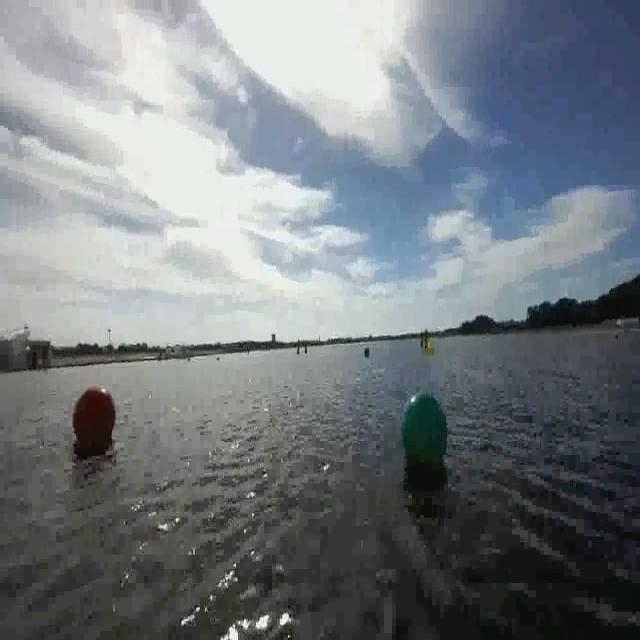blue-buoy: (362, 341, 371, 359)
green-buoy: (401, 392, 450, 471)
red-buoy: (73, 386, 116, 444)
yellow-buoy: (424, 337, 435, 357)
